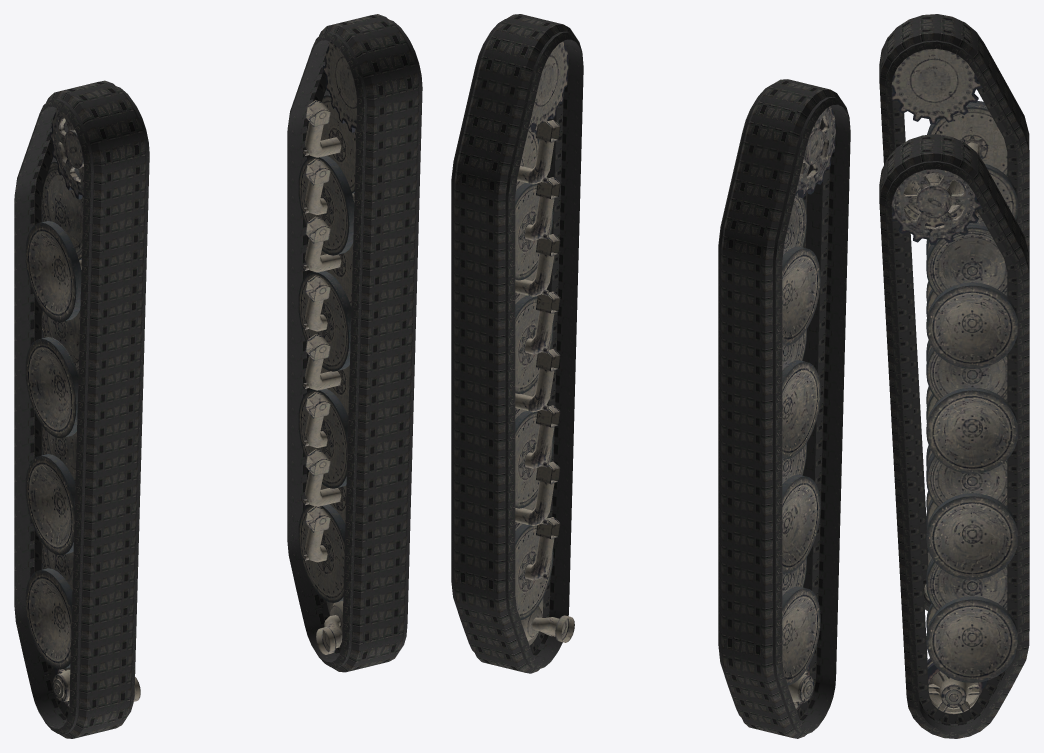
Rendered from Chassis.glb.
The picture shows the model from 3 angles, left to right: view 1: azimuth 30°, elevation 25°; view 2: azimuth 150°, elevation 25°; view 3: azimuth 270°, elevation 25°; orthographic projection. The views are drawn at different scales.
Visible parts, largest first — view 1: set_0_group_0, set_1_group_0, set_3_group_0, set_2_group_0; view 2: set_0_group_0, set_1_group_0, set_3_group_0, set_2_group_0; view 3: set_3_group_0, set_1_group_0, set_0_group_0, set_2_group_0.
Boxes of the visible parts, x1=… form: set_0_group_0: x1=14, y1=80, x2=149, y2=738; set_1_group_0: x1=287, y1=14, x2=422, y2=672; set_3_group_0: x1=298, y1=42, x2=356, y2=654; set_2_group_0: x1=25, y1=108, x2=140, y2=707; set_0_group_0: x1=718, y1=79, x2=850, y2=738; set_1_group_0: x1=451, y1=14, x2=583, y2=673; set_3_group_0: x1=515, y1=41, x2=574, y2=645; set_2_group_0: x1=782, y1=106, x2=835, y2=710; set_3_group_0: x1=891, y1=169, x2=1017, y2=714; set_1_group_0: x1=879, y1=134, x2=1029, y2=738; set_0_group_0: x1=879, y1=14, x2=1029, y2=610; set_2_group_0: x1=891, y1=48, x2=1017, y2=601.
Bounding box in the file's own units: 3.42 × 6.27 × 1.46.
Materials: 4 (4 with a texture image).
